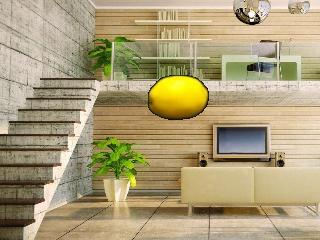lemon: (148, 75, 207, 119)
